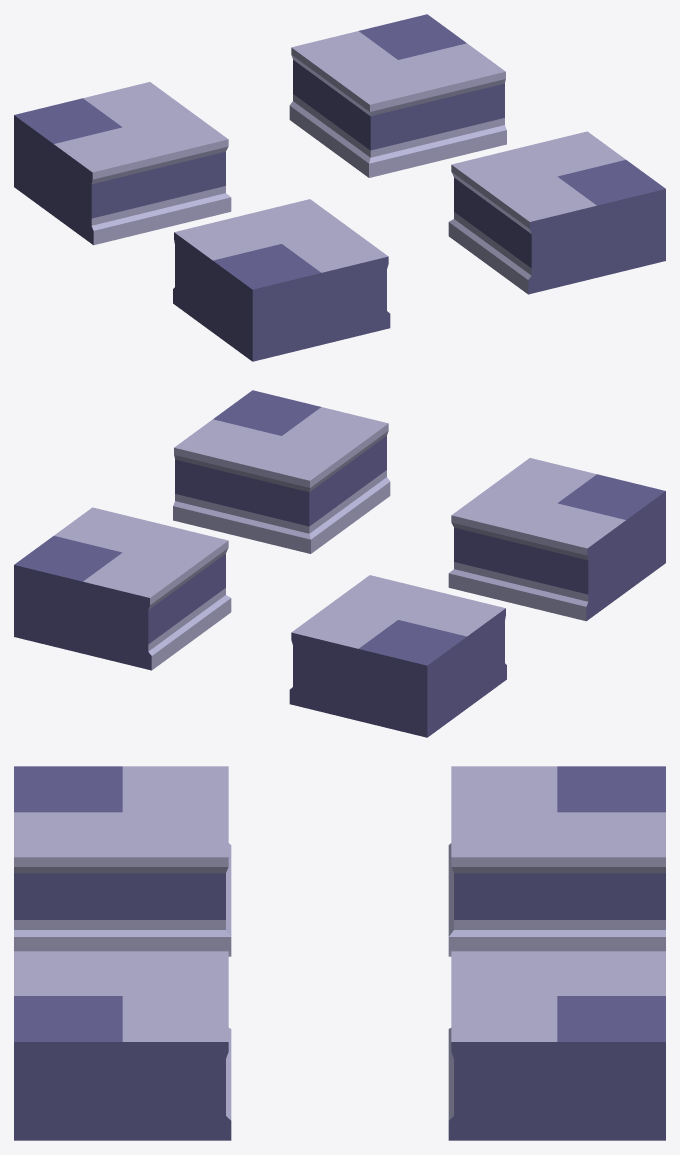
File: 4way.glb
3 renders of one model, top to bottom at view 1: azimuth 30°, elevation 25°; view 2: azimuth 150°, elevation 25°; view 3: azimuth 270°, elevation 25°, orthographic. The views are drawn at different scales.
Visible parts, largest first — view 1: mergedBlocks(Clone); view 2: mergedBlocks(Clone); view 3: mergedBlocks(Clone).
Part boxes in pixels (left/top/right/bottom): mergedBlocks(Clone): left=14, top=14, right=665, bottom=361; mergedBlocks(Clone): left=14, top=390, right=665, bottom=737; mergedBlocks(Clone): left=14, top=766, right=665, bottom=1140.
Bounding box in the file's own units: 6 × 1 × 6.
